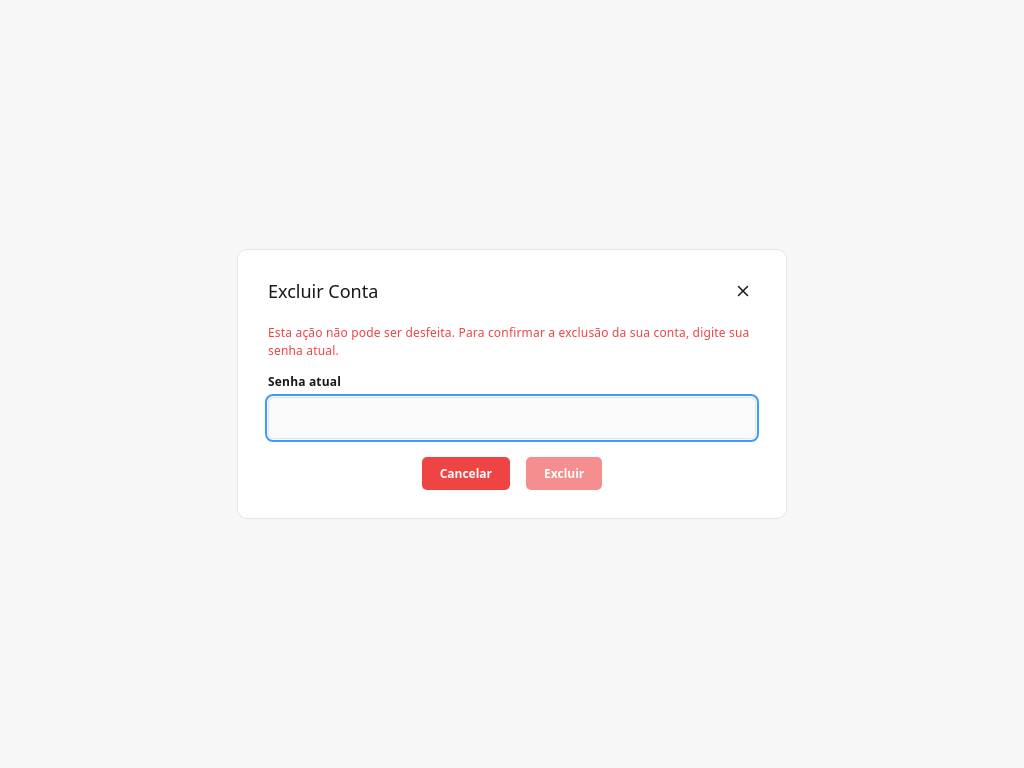
AccountActionModal › mode: excluir › mostra aviso de exclusão e botão Excluir desabilitado até digitar senha
This screenshot has width=1024, height=768.
Expected: the text "Esta ação não pode ser desfeita" is shown, [268,324,750,359]
Expected: the button "Excluir" is disabled, [526,457,602,490]
In the password field labelled "Senha atual": [512, 418] box [268,397,756,439], type "minhaSenha"
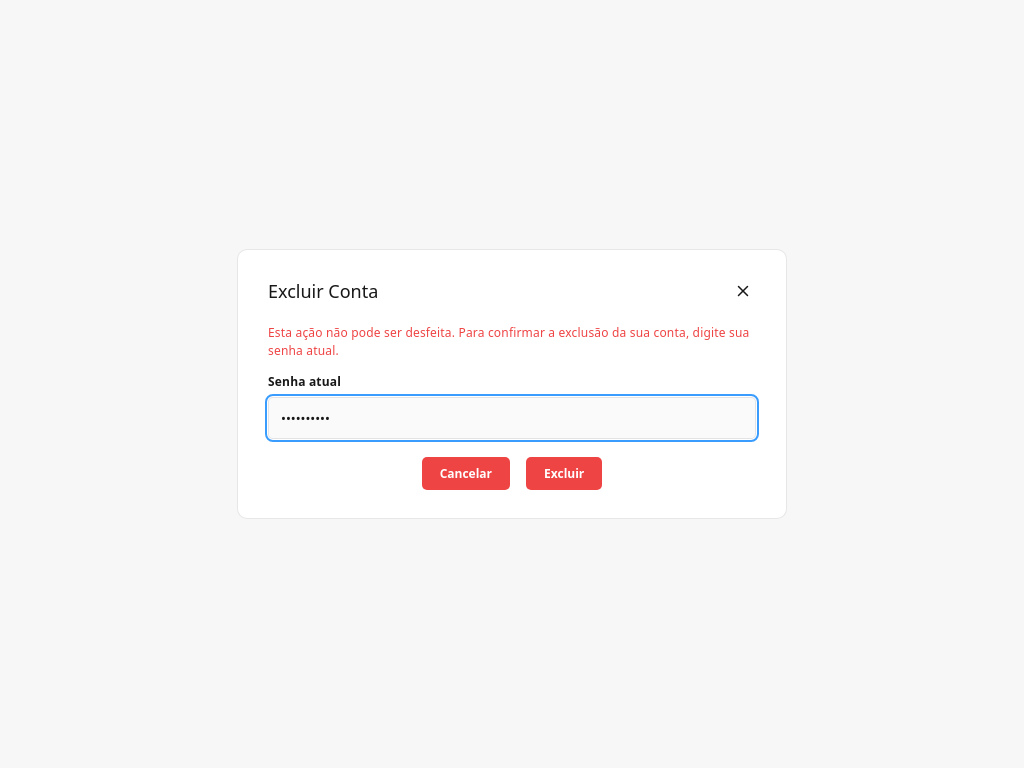
Result: the button "Excluir" is enabled at [526,457,602,490]
